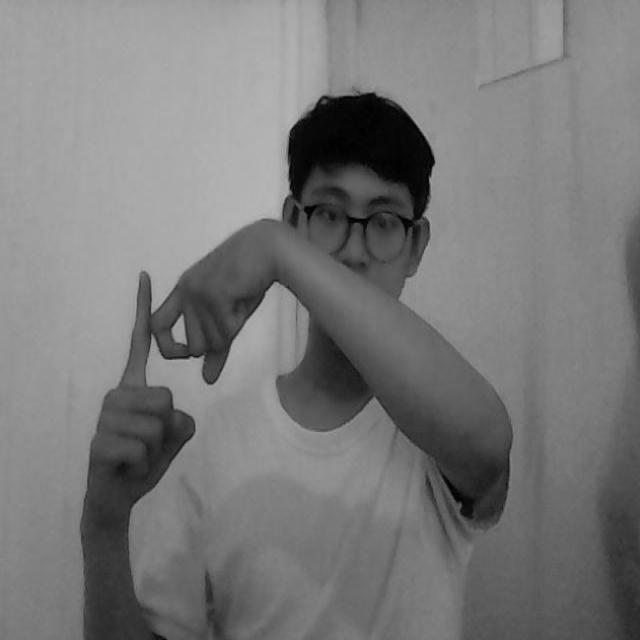K: (91, 239, 240, 469)
